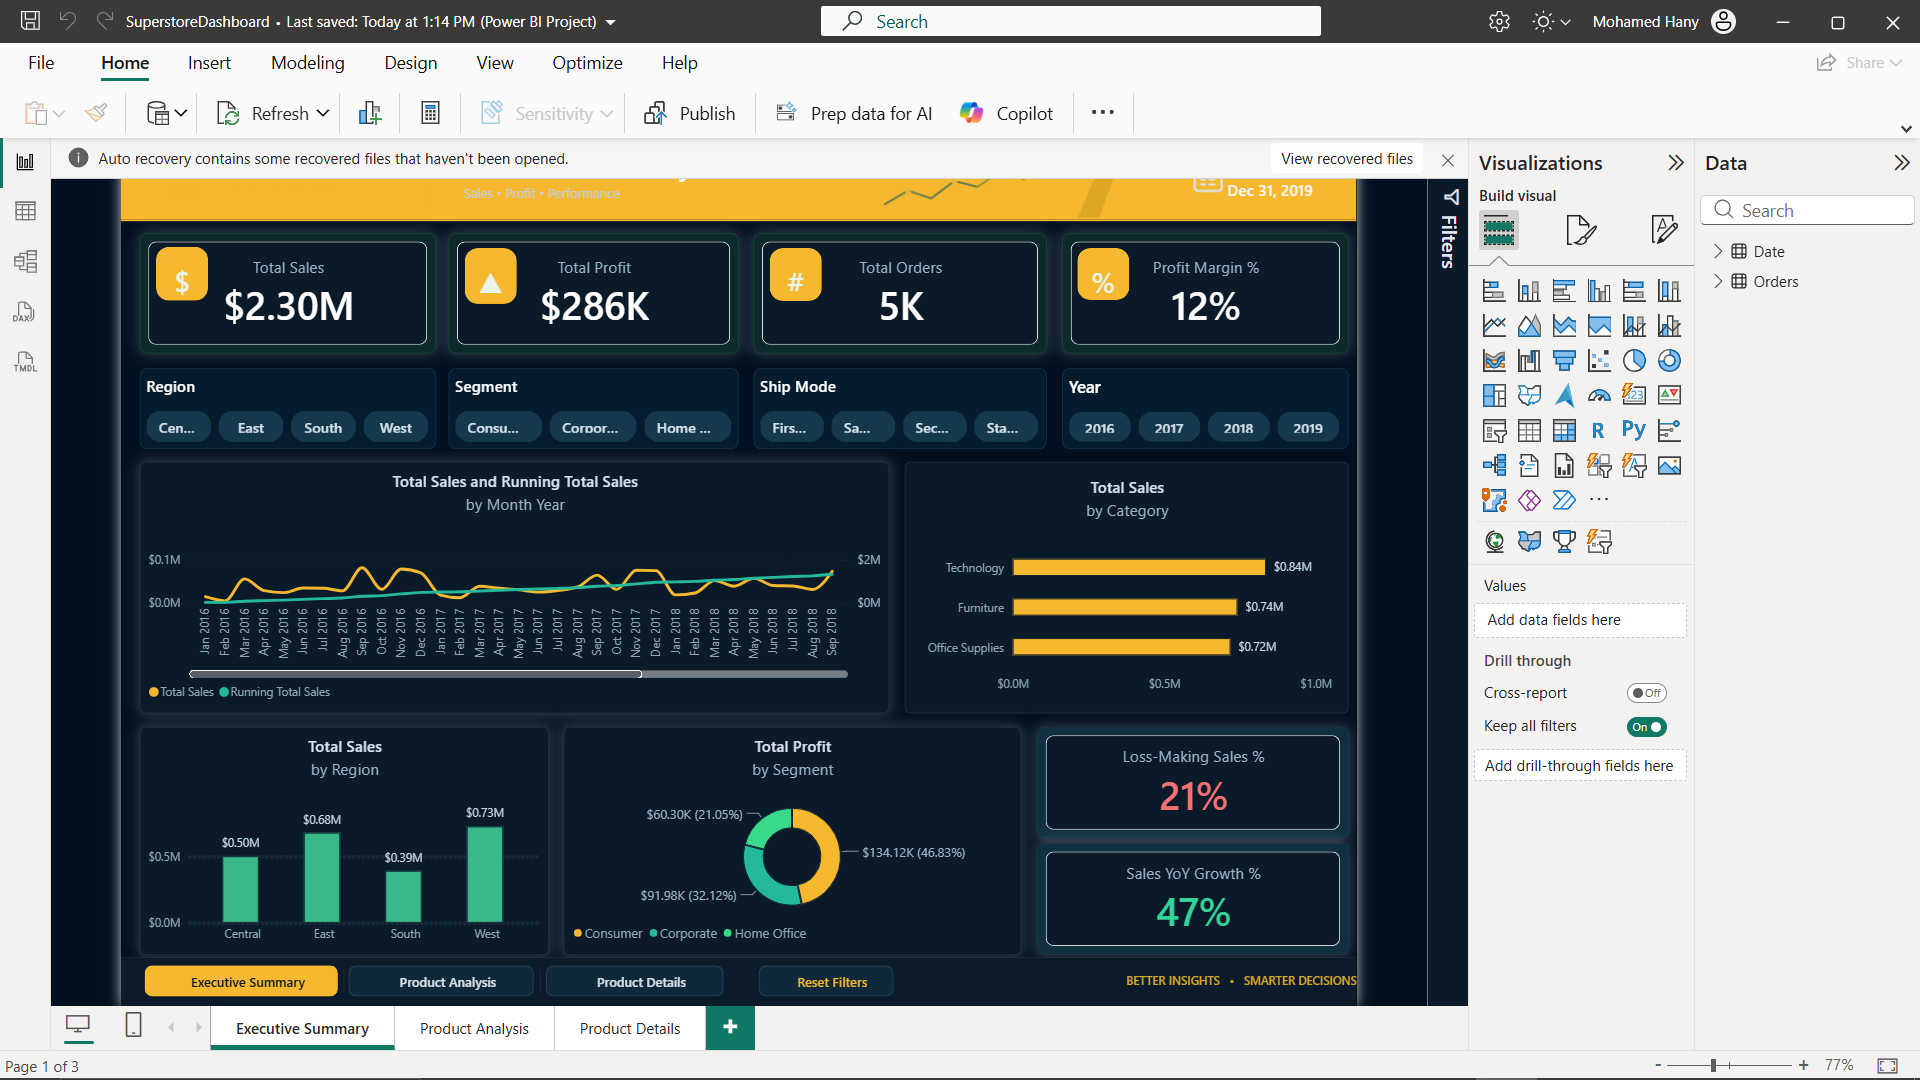

Layout of this report page (visuals, bound fields, positions):
{"tool":"powerbi","page":{"name":"Executive Summary","canvas":[1280,900],"ordinal":0},"visuals":[{"type":"cardVisual","fields":{"Data":["Orders.Total Sales"]},"box":[19.4,98.4,312.2,102.3],"z":0},{"type":"shape","box":[0,10,1280,73.6],"z":1000},{"type":"shape","box":[0,84,1280,2],"z":2000},{"type":"cardVisual","fields":{"Data":["Orders.Total Profit"]},"box":[339.4,98.4,301.8,102.3],"z":3000},{"type":"cardVisual","fields":{"Data":["Orders.Profit Margin %"]},"box":[975.4,98.4,287.6,102.3],"z":4000},{"type":"cardVisual","fields":{"Data":["Orders.Total Orders"]},"box":[655.4,98.4,303.1,102.3],"z":5000},{"type":"advancedSlicerVisual","title":"Region","fields":{"Values":["Orders.Region"]},"box":[24.6,211.1,307,111.4],"z":6000},{"type":"advancedSlicerVisual","title":"    Segment","fields":{"Values":["Orders.Segment"]},"box":[339.4,211.1,300.5,111.4],"z":7000},{"type":"advancedSlicerVisual","title":"Ship Mode","fields":{"Values":["Orders.Ship Mode"]},"box":[655.4,211.1,303.1,111.4],"z":8000},{"type":"advancedSlicerVisual","title":"Year","fields":{"Values":["Date.Year"]},"box":[976.7,211.1,286.3,111.4],"z":9000},{"type":"lineChart","fields":{"Category":["Date.Month Year"],"Y":["Orders.Total Sales"],"Y2":["Orders.Running Total Sales"]},"box":[19.4,339.4,777.2,248.7],"z":10000},{"type":"barChart","fields":{"Category":["Orders.Category"],"Y":["Orders.Total Sales"]},"box":[812.2,339.4,450.8,248.7],"z":11000},{"type":"columnChart","fields":{"Category":["Orders.Region"],"Y":["Orders.Total Sales"]},"box":[19.4,599.7,424.9,247.4],"z":12000},{"type":"pieChart","fields":{"Category":["Orders.Segment"],"Y":["Orders.Total Profit"]},"box":[458.6,599.7,474.1,247.4],"z":13000},{"type":"cardVisual","fields":{"Data":["Orders.Loss-Making Sales %"]},"box":[950.8,599.7,312.2,116.6],"z":14000},{"type":"cardVisual","fields":{"Data":["Orders.Sales YoY Growth %"]},"box":[949.5,731.9,313.5,116.6],"z":15000},{"type":"image","box":[115,215,35,22.1],"z":16000},{"type":"image","box":[416.4,216.4,35,20],"z":17000},{"type":"image","box":[725,217.9,35,22],"z":18000},{"type":"image","box":[1066.4,216.4,34,21],"z":19000},{"type":"image","box":[224.1,354.9,50,41.8],"z":20000},{"type":"image","box":[931.4,356.2,55,42],"z":21000},{"type":"image","box":[132.1,612.7,47,36],"z":22000},{"type":"image","box":[590.7,612.7,49,36],"z":23000},{"type":"shape","box":[0,850,1280,50],"z":24000},{"type":"textbox","box":[340,2,420,64],"z":25000},{"type":"shape","box":[0,849,1280,1],"z":26000},{"type":"shape","box":[320,17,2,50],"z":27000},{"type":"textbox","box":[103,10,210,60],"z":28000},{"type":"actionButton","box":[24,858,200,32],"z":29000},{"type":"actionButton","box":[236,858,192,32],"z":30000},{"type":"actionButton","box":[440,858,184,32],"z":31000},{"type":"actionButton","box":[660,858,140,32],"z":32000},{"type":"textbox","box":[972.8,861.4,265.5,27.2],"z":33000},{"type":"image","box":[36,21,46,42],"z":34000},{"type":"image","box":[0,0,1280,85.5],"z":35000},{"type":"shape","box":[230,862,1,24],"z":36000},{"type":"shape","box":[434,862,1,24],"z":37000},{"type":"textbox","box":[1142,14,130,56],"z":38000},{"type":"image","box":[967.6,630.8,60.9,53.1],"z":39000},{"type":"image","box":[973.1,764.6,60.9,53.1],"z":40000},{"type":"image","box":[362.7,117.9,64.8,53.1],"z":41000},{"type":"image","box":[42.7,117.9,60.9,53.1],"z":42000},{"type":"image","box":[681.4,117.9,60.9,53.1],"z":43000},{"type":"image","box":[998.7,117.9,60.9,53.1],"z":44000}]}

Visuals, with their boxes on the page's 1280x900 design canvas (x1, y1, x2, y2). These are canvas units, not pixel positions in the 1920x1080 screenshot, which may show the page scaled, cropped or inside an application window:
cardVisual - Orders.Total Sales: {"x1": 19, "y1": 98, "x2": 332, "y2": 201}
shape: {"x1": 0, "y1": 10, "x2": 1280, "y2": 84}
shape: {"x1": 0, "y1": 84, "x2": 1280, "y2": 86}
cardVisual - Orders.Total Profit: {"x1": 339, "y1": 98, "x2": 641, "y2": 201}
cardVisual - Orders.Profit Margin %: {"x1": 975, "y1": 98, "x2": 1263, "y2": 201}
cardVisual - Orders.Total Orders: {"x1": 655, "y1": 98, "x2": 958, "y2": 201}
"Region" advancedSlicerVisual: {"x1": 25, "y1": 211, "x2": 332, "y2": 322}
"    Segment" advancedSlicerVisual: {"x1": 339, "y1": 211, "x2": 640, "y2": 322}
"Ship Mode" advancedSlicerVisual: {"x1": 655, "y1": 211, "x2": 958, "y2": 322}
"Year" advancedSlicerVisual: {"x1": 977, "y1": 211, "x2": 1263, "y2": 322}
lineChart - Date.Month Year x Orders.Total Sales: {"x1": 19, "y1": 339, "x2": 797, "y2": 588}
barChart - Orders.Category x Orders.Total Sales: {"x1": 812, "y1": 339, "x2": 1263, "y2": 588}
columnChart - Orders.Region x Orders.Total Sales: {"x1": 19, "y1": 600, "x2": 444, "y2": 847}
pieChart - Orders.Segment x Orders.Total Profit: {"x1": 459, "y1": 600, "x2": 933, "y2": 847}
cardVisual - Orders.Loss-Making Sales %: {"x1": 951, "y1": 600, "x2": 1263, "y2": 716}
cardVisual - Orders.Sales YoY Growth %: {"x1": 950, "y1": 732, "x2": 1263, "y2": 848}
image: {"x1": 115, "y1": 215, "x2": 150, "y2": 237}
image: {"x1": 416, "y1": 216, "x2": 451, "y2": 236}
image: {"x1": 725, "y1": 218, "x2": 760, "y2": 240}
image: {"x1": 1066, "y1": 216, "x2": 1100, "y2": 237}
image: {"x1": 224, "y1": 355, "x2": 274, "y2": 397}
image: {"x1": 931, "y1": 356, "x2": 986, "y2": 398}
image: {"x1": 132, "y1": 613, "x2": 179, "y2": 649}
image: {"x1": 591, "y1": 613, "x2": 640, "y2": 649}
shape: {"x1": 0, "y1": 850, "x2": 1280, "y2": 900}
textbox: {"x1": 340, "y1": 2, "x2": 760, "y2": 66}
shape: {"x1": 0, "y1": 849, "x2": 1280, "y2": 850}
shape: {"x1": 320, "y1": 17, "x2": 322, "y2": 67}
textbox: {"x1": 103, "y1": 10, "x2": 313, "y2": 70}
actionButton: {"x1": 24, "y1": 858, "x2": 224, "y2": 890}
actionButton: {"x1": 236, "y1": 858, "x2": 428, "y2": 890}
actionButton: {"x1": 440, "y1": 858, "x2": 624, "y2": 890}
actionButton: {"x1": 660, "y1": 858, "x2": 800, "y2": 890}
textbox: {"x1": 973, "y1": 861, "x2": 1238, "y2": 889}
image: {"x1": 36, "y1": 21, "x2": 82, "y2": 63}
image: {"x1": 0, "y1": 0, "x2": 1280, "y2": 86}
shape: {"x1": 230, "y1": 862, "x2": 231, "y2": 886}
shape: {"x1": 434, "y1": 862, "x2": 435, "y2": 886}
textbox: {"x1": 1142, "y1": 14, "x2": 1272, "y2": 70}
image: {"x1": 968, "y1": 631, "x2": 1028, "y2": 684}
image: {"x1": 973, "y1": 765, "x2": 1034, "y2": 818}
image: {"x1": 363, "y1": 118, "x2": 428, "y2": 171}
image: {"x1": 43, "y1": 118, "x2": 104, "y2": 171}
image: {"x1": 681, "y1": 118, "x2": 742, "y2": 171}
image: {"x1": 999, "y1": 118, "x2": 1060, "y2": 171}
